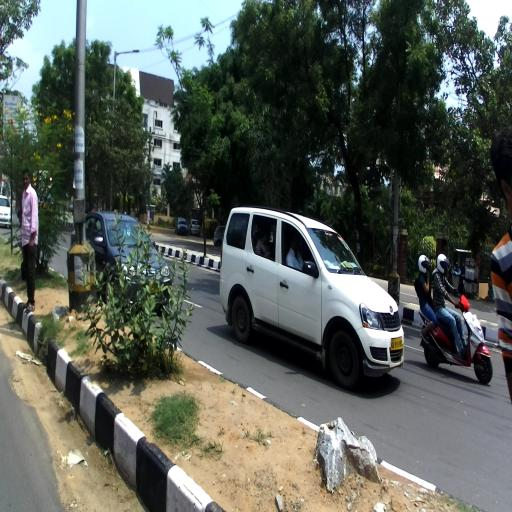street_light_0: (115, 48, 140, 59)
